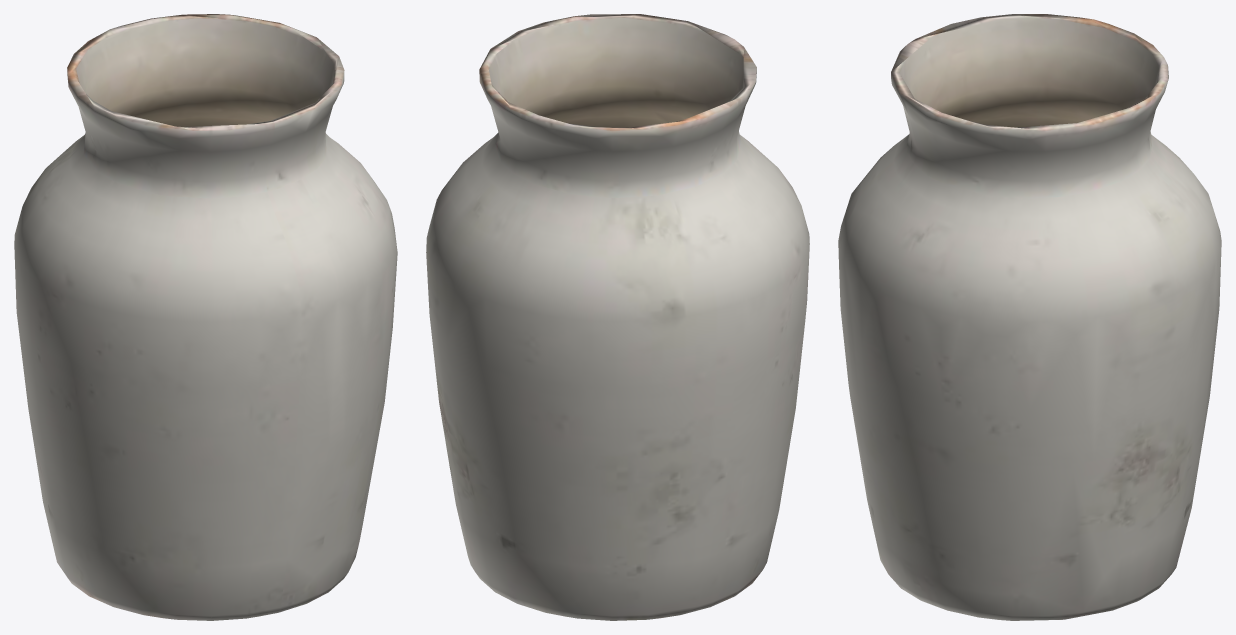
The model's file is ceramic_vase_02.glb.
The picture shows the model from 3 angles, left to right: view 1: azimuth 30°, elevation 25°; view 2: azimuth 150°, elevation 25°; view 3: azimuth 270°, elevation 25°; orthographic projection.
Parts seen in each view (by area): view 1: ceramic_vase_02; view 2: ceramic_vase_02; view 3: ceramic_vase_02.
Boxes of the visible parts, x1,y1,x2,y2 form: ceramic_vase_02: (14,14,397,620); ceramic_vase_02: (426,14,809,620); ceramic_vase_02: (838,14,1221,620).
Size of the model in its own units: 0.2176 by 0.3088 by 0.2176.
1 material, 1 textured.
